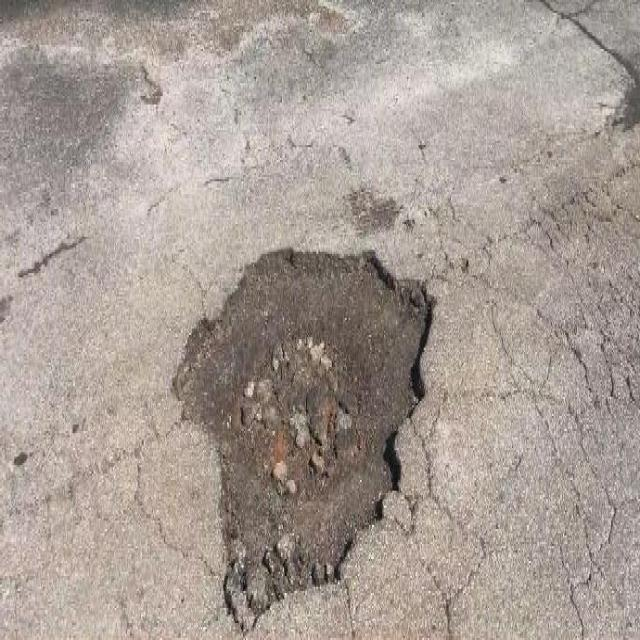pothole: (168, 230, 440, 628)
